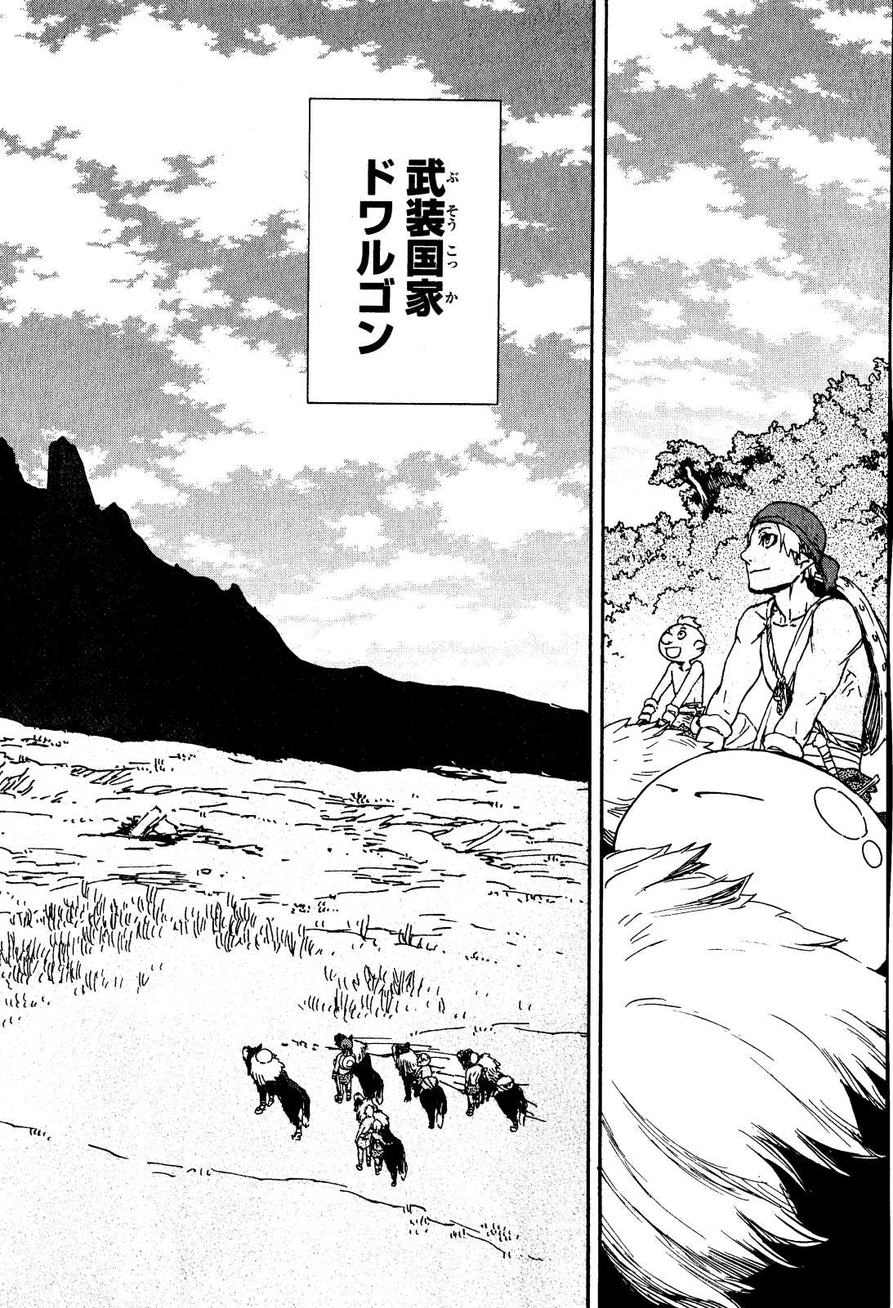bubbles: (305, 89, 503, 410)
